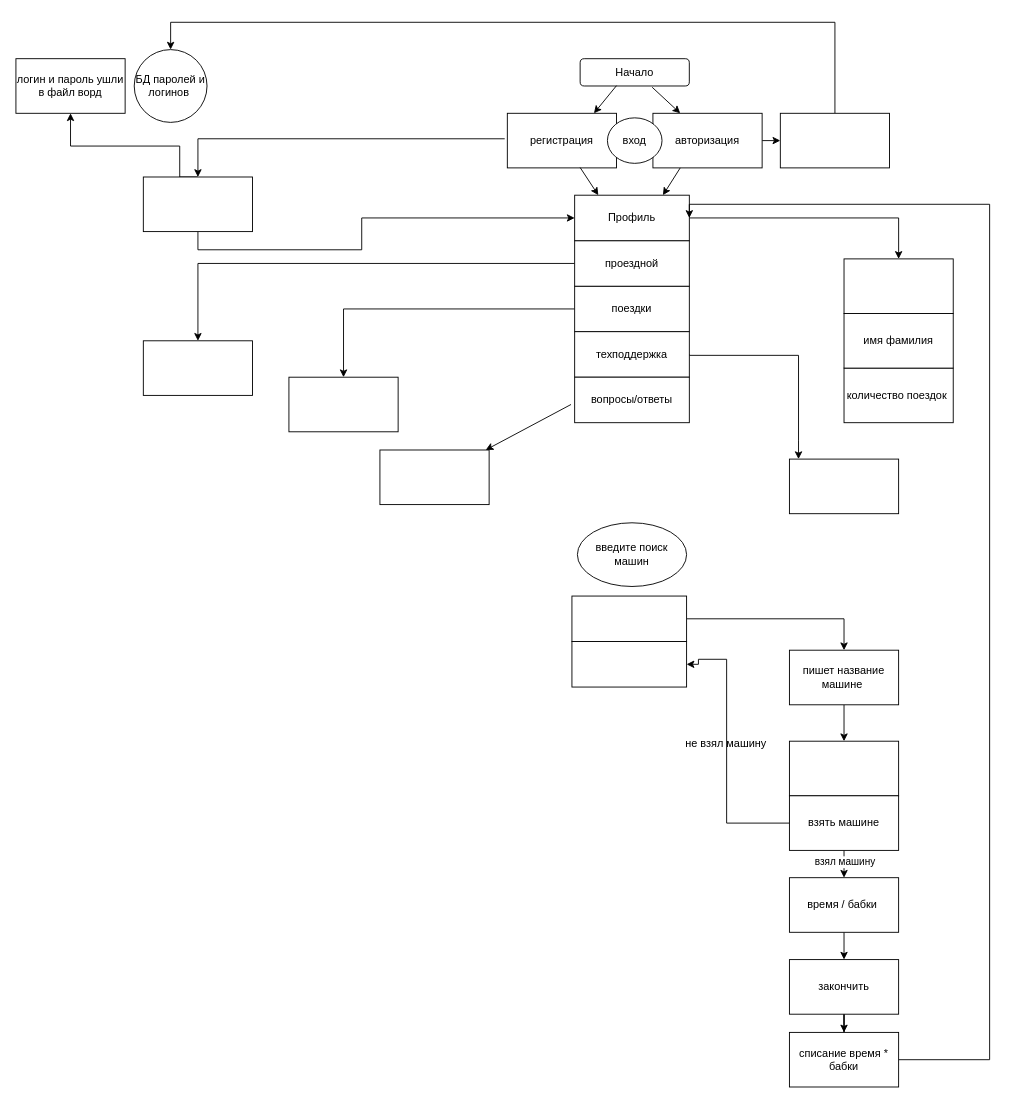
The diagram is 1013 pixels wide and 1103 high, and some of its shapes have lost their labels. Each missing label, with the centre of its shape:
"cout вопросы" belongs at point 434,477.
"введи телефон, пароль и ФИО" belongs at point 197,204.
"введите логин и пароль" belongs at point 834,140.
"вопросы на майл" belongs at point 844,486.
"информация о машине" belongs at point 844,768.
"карту" belongs at point 629,664.
"купоны" belongs at point 197,367.
"Название машины / кол-во денег" belongs at point 343,404.
"поиск машины" belongs at point 629,618.
"телефон" belongs at point 898,285.
